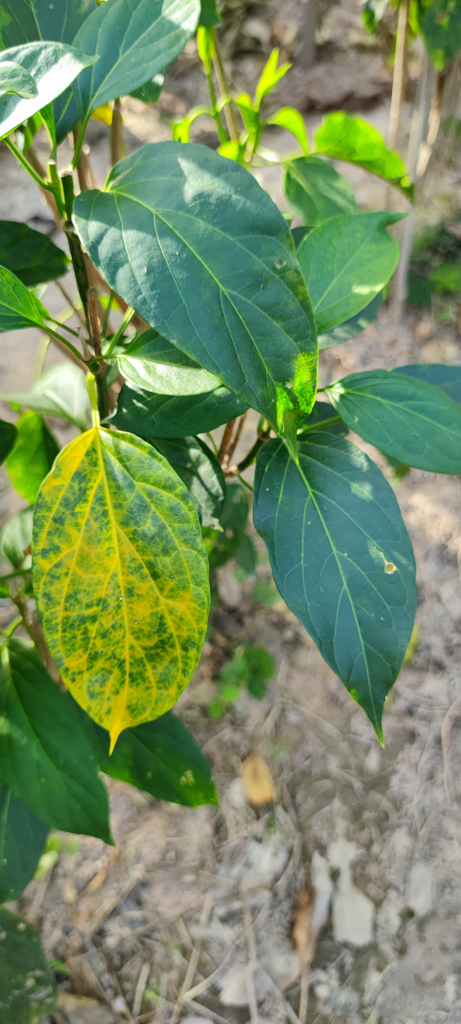Pepper yellow leaf: (25, 425, 223, 753)
